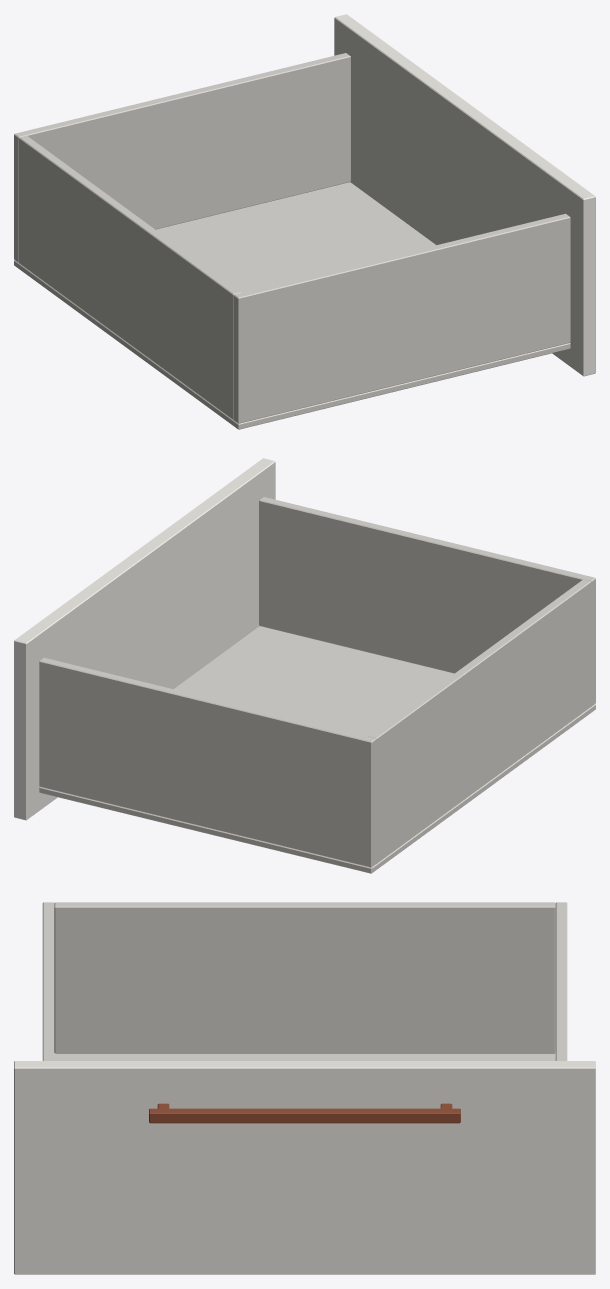
The model's file is l_kitchen_two_long_legs_rb4_middle_drawer.glb.
3 renders of one model, top to bottom at view 1: azimuth 30°, elevation 25°; view 2: azimuth 150°, elevation 25°; view 3: azimuth 270°, elevation 25°, orthographic. The views are drawn at different scales.
Parts seen in each view (by area): view 1: l_kitchen_two_long_legs_rb4_middle_drawer; view 2: l_kitchen_two_long_legs_rb4_middle_drawer; view 3: l_kitchen_two_long_legs_rb4_middle_drawer.
Boxes of the visible parts, x1=… form: l_kitchen_two_long_legs_rb4_middle_drawer: x1=14, y1=14, x2=595, y2=429; l_kitchen_two_long_legs_rb4_middle_drawer: x1=14, y1=458, x2=595, y2=873; l_kitchen_two_long_legs_rb4_middle_drawer: x1=14, y1=902, x2=595, y2=1274.
Bounding box in the file's own units: 0.504 × 0.2346 × 0.597.
